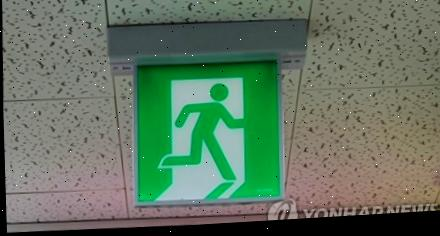emergency_exit: (132, 53, 286, 207)
